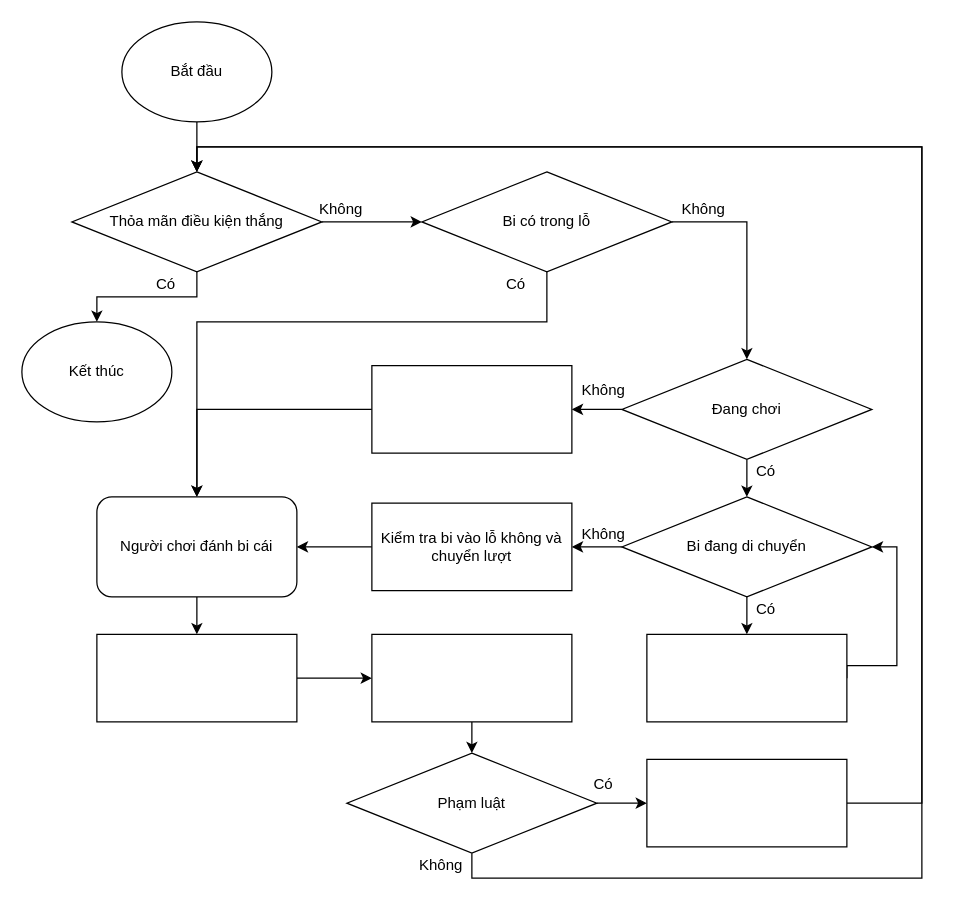
Image size: 954x910. Some labels were removed from this diagram. Each missing label, with the centre of its shape:
Tính toán đường bi: the point at 196,677
Vẽ bi ở vị trí mặc định: the point at 471,408
Xử lí hình ảnh của bi: the point at 746,677
Xử lý các sự kiện va chạm: the point at 471,677
Đổi lượt: the point at 746,802
